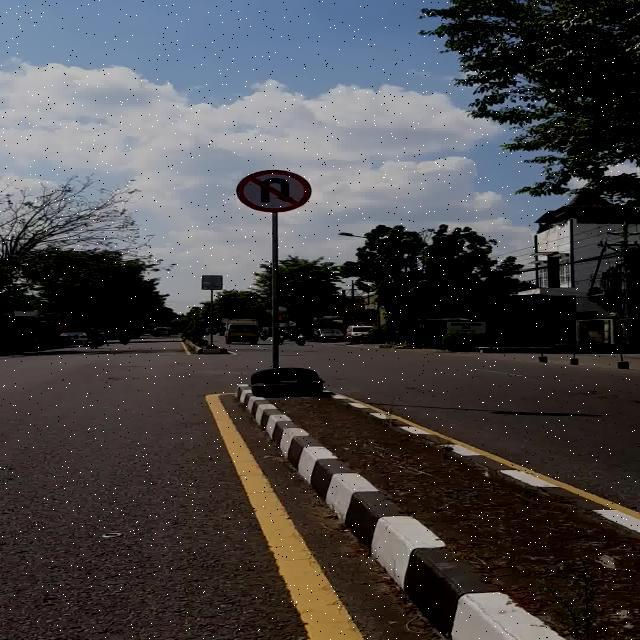Dilarang Putar Balik: (235, 170, 312, 212)
